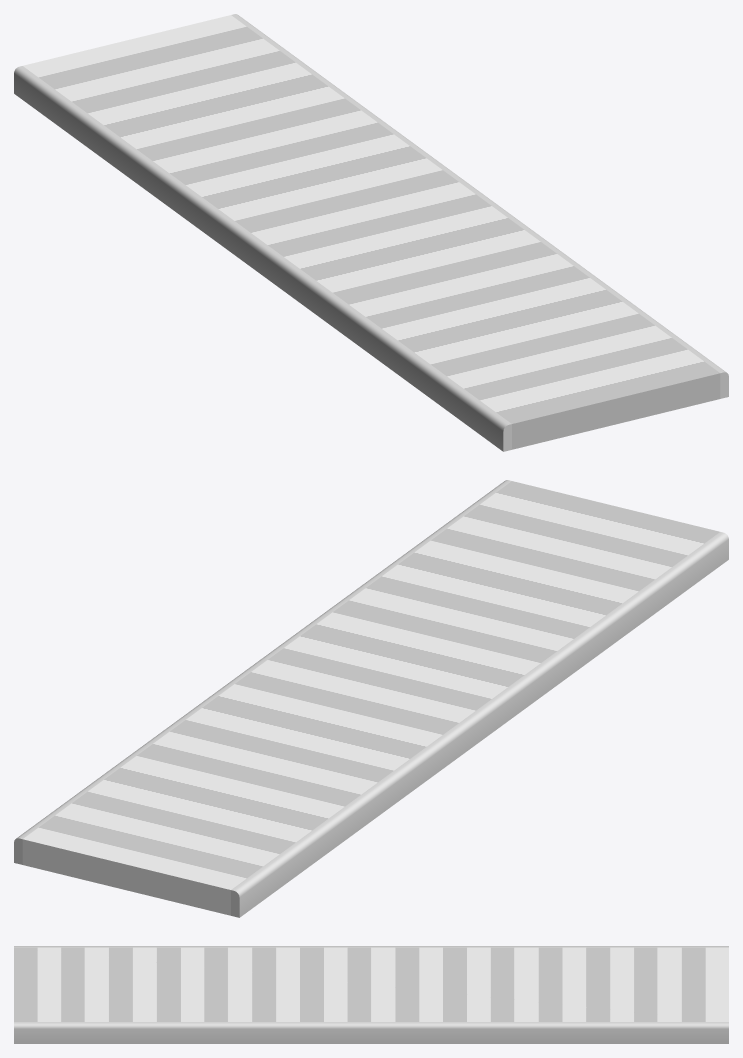
File: floor.fbx
3 views of the same model, one above another, from view 1: azimuth 30°, elevation 25°; view 2: azimuth 150°, elevation 25°; view 3: azimuth 270°, elevation 25° (orthographic). The views are drawn at different scales.
Visible parts, largest first — view 1: floor; view 2: floor; view 3: floor.
Boxes of the visible parts, <box> form: floor: <box>14,14,728,451</box>; floor: <box>14,480,728,917</box>; floor: <box>14,946,728,1043</box>.
Bounding box in the file's own units: 266 × 29.02 × 1000.
